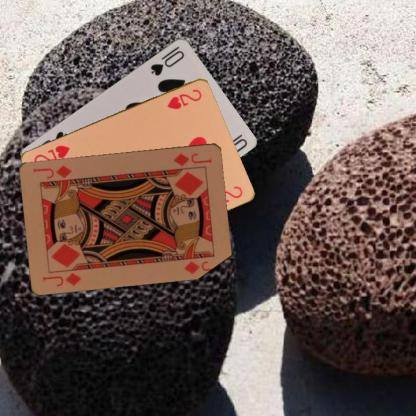10s: (147, 43, 186, 77)
2h: (164, 86, 203, 110)
Jd: (40, 270, 82, 288), (171, 150, 213, 167)
